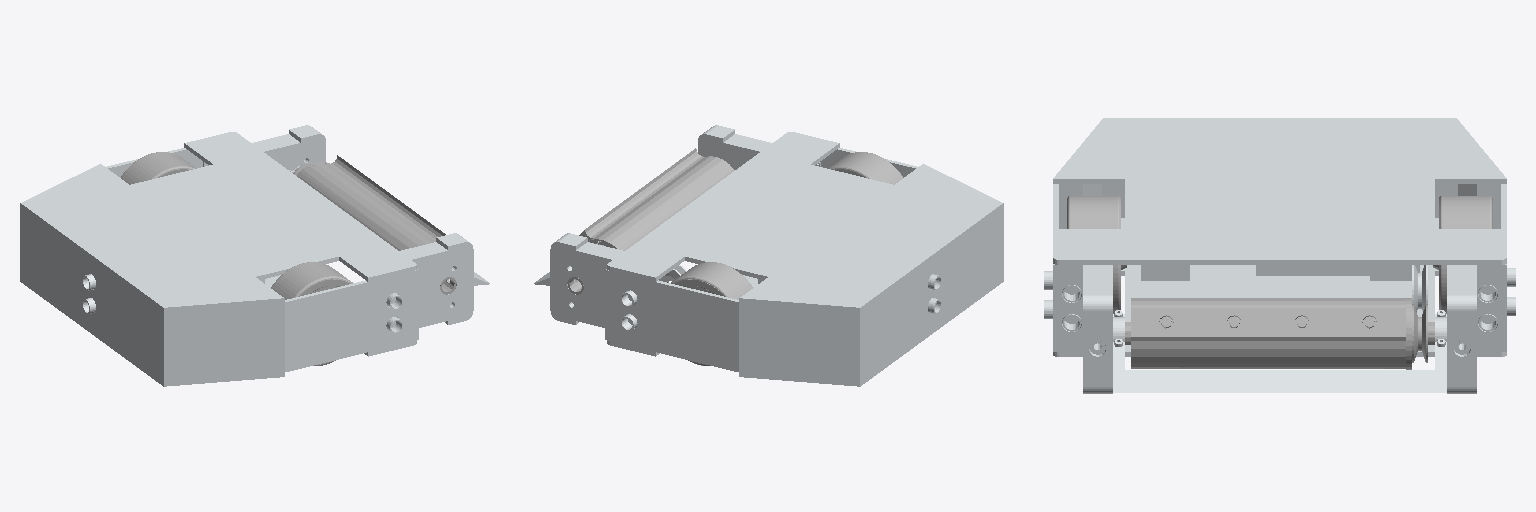
URDF robot description (robotti_6):
<?xml version="1.0" encoding="utf-8"?>
<!-- This URDF was automatically created by SolidWorks to URDF Exporter! Originally created by [author] ([email redacted]) 
     Commit Version: 1.5.1-0-g916b5db  Build Version: 1.5.7152.31018
     For more information, please see http://wiki.ros.org/sw_urdf_exporter -->
<robot
  name="robotti_6">
  <link
    name="base_link">
    <inertial>
      <origin
        xyz="-0.11531 0.13363 0.04571"
        rpy="0 0 0" />
      <mass
        value="7.5654" />
      <inertia
        ixx="0.032867"
        ixy="-0.00013056"
        ixz="-2.7059E-05"
        iyy="0.025684"
        iyz="-1.0132E-05"
        izz="0.055266" />
    </inertial>
    <visual>
      <origin
        xyz="0 0 0"
        rpy="0 0 0" />
      <geometry>
        <mesh
          filename="package://robotti_6/meshes/base_link.STL" />
      </geometry>
      <material
        name="">
        <color
          rgba="0.89804 0.91765 0.92941 1" />
      </material>
    </visual>
    <collision>
      <origin
        xyz="0 0 0"
        rpy="0 0 0" />
      <geometry>
        <mesh
          filename="package://robotti_6/meshes/base_hitbox.STL" />
      </geometry>
    </collision>
  </link>
  <link
    name="weapon_link">
    <inertial>
      <origin
        xyz="-1.2221E-05 -0.10799 -9.7854E-06"
        rpy="0 0 0" />
      <mass
        value="2.3955" />
      <inertia
        ixx="0.011368"
        ixy="-1.0456E-07"
        ixz="3.2572E-05"
        iyy="0.00042576"
        iyz="-8.398E-08"
        izz="0.011353" />
    </inertial>
    <visual>
      <origin
        xyz="0 0 0"
        rpy="0 0 0" />
      <geometry>
        <mesh
          filename="package://robotti_6/meshes/weapon_link.STL" />
      </geometry>
      <material
        name="">
        <color
          rgba="0.75294 0.75294 0.75294 1" />
      </material>
    </visual>
    <collision>
      <origin
        xyz="0 0 0"
        rpy="0 0 0" />
      <geometry>
        <mesh
          filename="package://robotti_6/meshes/weapon_hitbox.STL" />
      </geometry>
    </collision>
  </link>
  <joint
    name="weapon_joint"
    type="continuous">
    <origin
      xyz="0.0500000000000034 0.235000000000002 0.0449999999999988"
      rpy="0 0 0" />
    <parent
      link="base_link" />
    <child
      link="weapon_link" />
    <axis
      xyz="0 1 0" />
  </joint>
  <link
    name="l_wheel_link">
    <inertial>
      <origin
        xyz="1.7031E-08 0.021831 1.0089E-08"
        rpy="0 0 0" />
      <mass
        value="0.22123" />
      <inertia
        ixx="0.00019462"
        ixy="1.9923E-10"
        ixz="-5.7804E-12"
        iyy="0.00033659"
        iyz="9.6914E-14"
        izz="0.00019462" />
    </inertial>
    <visual>
      <origin
        xyz="0 0 0"
        rpy="0 0 0" />
      <geometry>
        <mesh
          filename="package://robotti_6/meshes/l_wheel_link.STL" />
      </geometry>
      <material
        name="">
        <color
          rgba="0.75294 0.75294 0.75294 1" />
      </material>
    </visual>
    <collision>
      <origin
        xyz="0 0 0"
        rpy="0 0 0" />
      <geometry>
        <mesh
          filename="package://robotti_6/meshes/l_wheel_link.STL" />
      </geometry>
    </collision>
  </link>
  <joint
    name="l_wheel_joint"
    type="continuous">
    <origin
      xyz="-0.105000000000001 0.262999999999998 0.0449999999999991"
      rpy="0 0 0" />
    <parent
      link="base_link" />
    <child
      link="l_wheel_link" />
    <axis
      xyz="0 1 0" />
  </joint>
  <link
    name="r_wheel_link">
    <inertial>
      <origin
        xyz="-1.8435E-08 -0.021831 -6.022E-09"
        rpy="0 0 0" />
      <mass
        value="0.22123" />
      <inertia
        ixx="0.00019462"
        ixy="1.5398E-10"
        ixz="-2.8577E-12"
        iyy="0.00033659"
        iyz="1.2831E-10"
        izz="0.00019462" />
    </inertial>
    <visual>
      <origin
        xyz="0 0 0"
        rpy="0 0 0" />
      <geometry>
        <mesh
          filename="package://robotti_6/meshes/r_wheel_link.STL" />
      </geometry>
      <material
        name="">
        <color
          rgba="0.75294 0.75294 0.75294 1" />
      </material>
    </visual>
    <collision>
      <origin
        xyz="0 0 0"
        rpy="0 0 0" />
      <geometry>
        <mesh
          filename="package://robotti_6/meshes/r_wheel_link.STL" />
      </geometry>
    </collision>
  </link>
  <joint
    name="r_wheel_joint"
    type="continuous">
    <origin
      xyz="-0.104999999999999 -0.00300000000000172 0.045"
      rpy="0 0 0" />
    <parent
      link="base_link" />
    <child
      link="r_wheel_link" />
    <axis
      xyz="0 1 0" />
  </joint>
</robot>

--- Facts derived from the render (not from the file) ---
Views: 3 orthographic renders of the robot side by side, from view 1: azimuth 30°, elevation 25°; view 2: azimuth 150°, elevation 25°; view 3: azimuth 270°, elevation 25°.
Model robotti_6 with 4 links and 3 joints (3 continuous), rooted at base_link, posed every joint at zero.
Visible links, largest first — view 1: base_link, weapon_link, r_wheel_link, l_wheel_link; view 2: base_link, weapon_link, l_wheel_link, r_wheel_link; view 3: base_link, weapon_link, l_wheel_link, r_wheel_link.
Boxes of the visible links, x1,y1,x2,y2 form: base_link: [20, 125, 489, 386]; weapon_link: [293, 155, 456, 294]; r_wheel_link: [271, 262, 352, 365]; l_wheel_link: [121, 152, 196, 184]; base_link: [534, 125, 1003, 386]; weapon_link: [567, 148, 734, 294]; l_wheel_link: [671, 262, 752, 365]; r_wheel_link: [827, 152, 902, 184]; base_link: [1044, 118, 1515, 393]; weapon_link: [1125, 298, 1434, 369]; l_wheel_link: [1433, 196, 1492, 313]; r_wheel_link: [1067, 196, 1126, 313].
Bounding box of the posed robot: 0.4029 × 0.394 × 0.1 m (x, y, z).
Meshes: 4 distinct files referenced, 4 mesh visuals loaded (4 binary STL).
